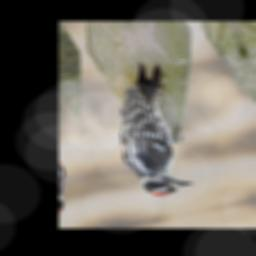Woodpecker: (93, 60, 199, 202)
